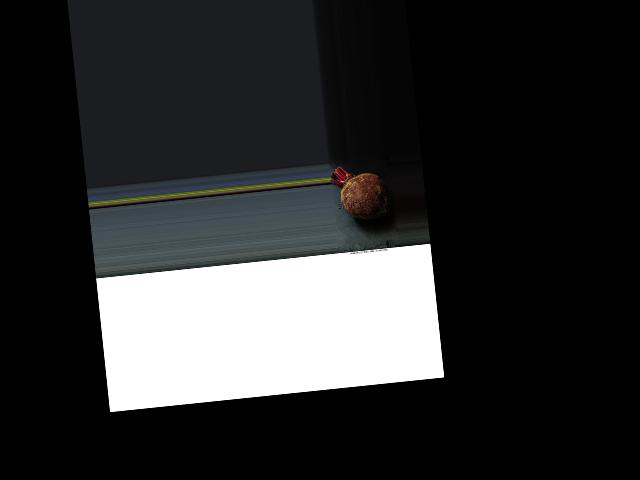beet: (329, 162, 390, 223)
